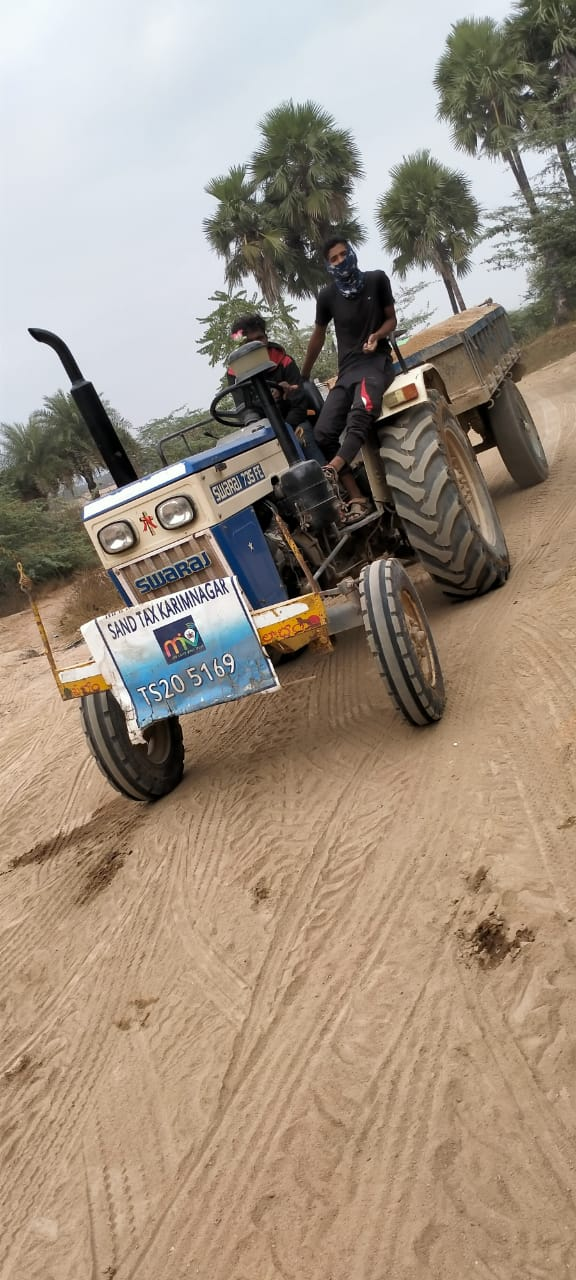num_plate: (125, 649, 254, 710)
